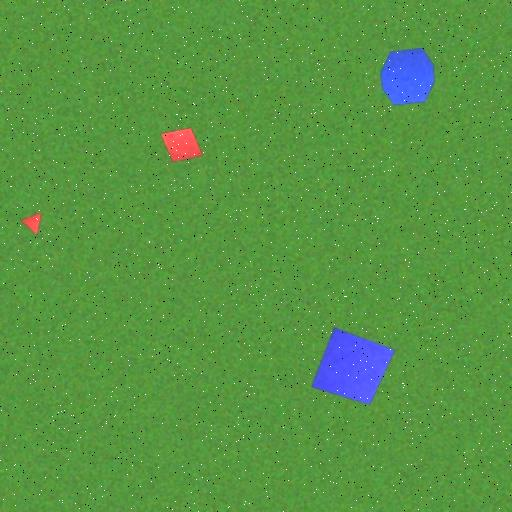BLUE_SQUARE: (310, 326, 396, 405)
RED_SQUARE: (160, 127, 204, 163)
